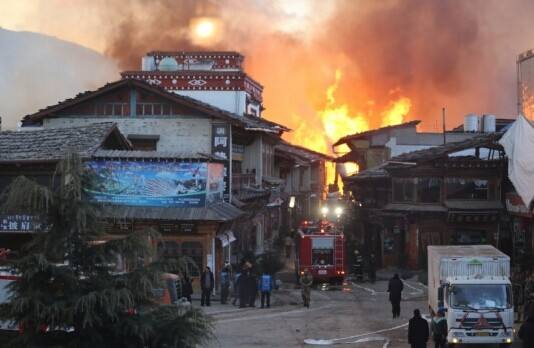fire: (287, 85, 412, 141)
